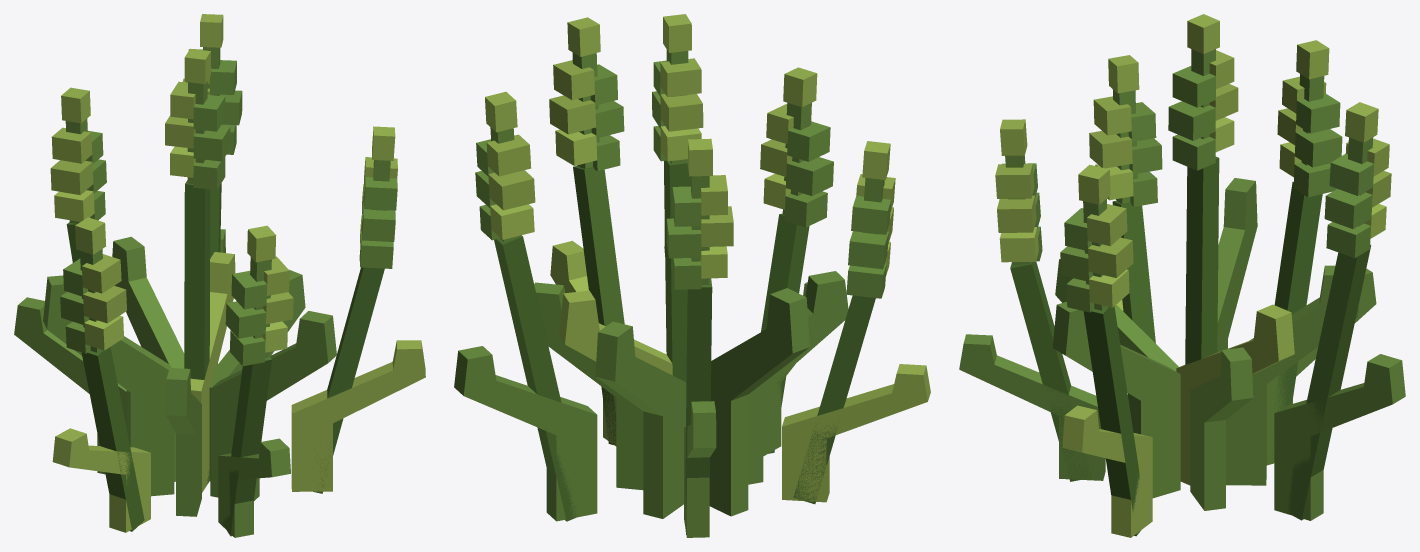
File: SM_VMF_Crop_Wheat_Growing.fbx
3 renders of one model, left to right at view 1: azimuth 30°, elevation 25°; view 2: azimuth 150°, elevation 25°; view 3: azimuth 270°, elevation 25°, orthographic. The views are drawn at different scales.
Visible parts, largest first — view 1: SM_VMF_Crop_Wheat_Growing_Leaves, SM_VMF_Crop_Wheat_Growing_SeedHeads, SM_VMF_Crop_Wheat_Growing_Stems; view 2: SM_VMF_Crop_Wheat_Growing_Leaves, SM_VMF_Crop_Wheat_Growing_SeedHeads, SM_VMF_Crop_Wheat_Growing_Stems; view 3: SM_VMF_Crop_Wheat_Growing_Leaves, SM_VMF_Crop_Wheat_Growing_SeedHeads, SM_VMF_Crop_Wheat_Growing_Stems.
Boxes of the visible parts, x1=… form: SM_VMF_Crop_Wheat_Growing_Leaves: x1=14, y1=229, x2=425, y2=537; SM_VMF_Crop_Wheat_Growing_SeedHeads: x1=50, y1=14, x2=397, y2=366; SM_VMF_Crop_Wheat_Growing_Stems: x1=66, y1=180, x2=384, y2=536; SM_VMF_Crop_Wheat_Growing_Leaves: x1=454, y1=233, x2=930, y2=537; SM_VMF_Crop_Wheat_Growing_SeedHeads: x1=475, y1=14, x2=895, y2=298; SM_VMF_Crop_Wheat_Growing_Stems: x1=494, y1=160, x2=875, y2=534; SM_VMF_Crop_Wheat_Growing_Leaves: x1=959, y1=178, x2=1405, y2=537; SM_VMF_Crop_Wheat_Growing_SeedHeads: x1=995, y1=14, x2=1391, y2=312; SM_VMF_Crop_Wheat_Growing_Stems: x1=1010, y1=156, x2=1371, y2=536.
Bounding box in the file's own units: 55.4 × 63.72 × 55.33.
Materials: 1 (1 with a texture image).
